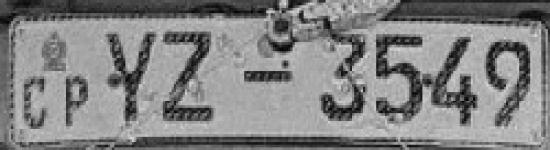-: (241, 64, 292, 90)
3: (318, 29, 369, 127)
4: (433, 29, 482, 135)
5: (372, 28, 430, 130)
9: (484, 34, 536, 131)
C: (20, 74, 50, 131)
P: (60, 70, 92, 130)
Y: (105, 26, 157, 128)
Z: (161, 24, 216, 123)
